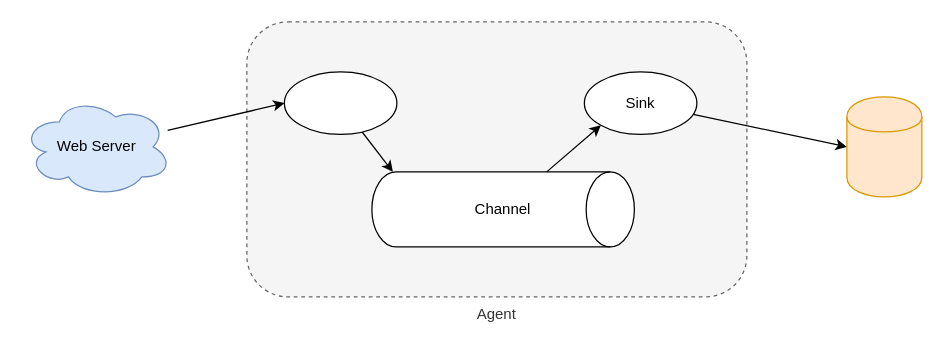
Image size: 944x345. Some labels were removed from this diagram. The shapes that lost their labels are listed below. From the top down, each one's centre as x and y in pixels, then its label:
At [340,102]: "Source".
At [884,146]: "HDFS".
